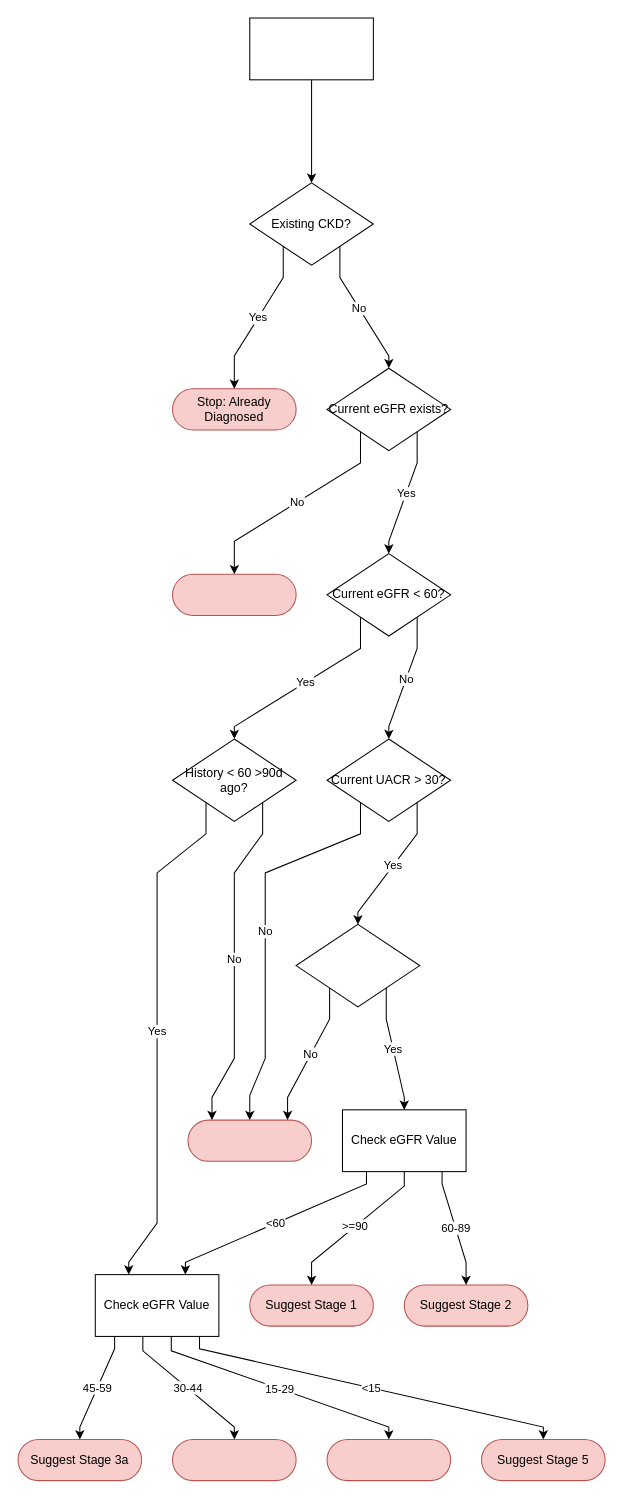
The diagram is 623 pixels wide and 1499 high, and some of its shapes have lost their labels. The box of each missing label's shape, as (x1, y1, x2, y2) in pixels:
History > 30 >90d ago?: (295, 923, 420, 1007)
Start: Patient Chart Open: (249, 17, 373, 80)
Stop: Insufficient Data: (171, 573, 296, 615)
Stop: Not Chronic: (187, 1119, 312, 1161)
Suggest Stage 3b: (171, 1438, 296, 1481)
Suggest Stage 4: (326, 1438, 451, 1481)
